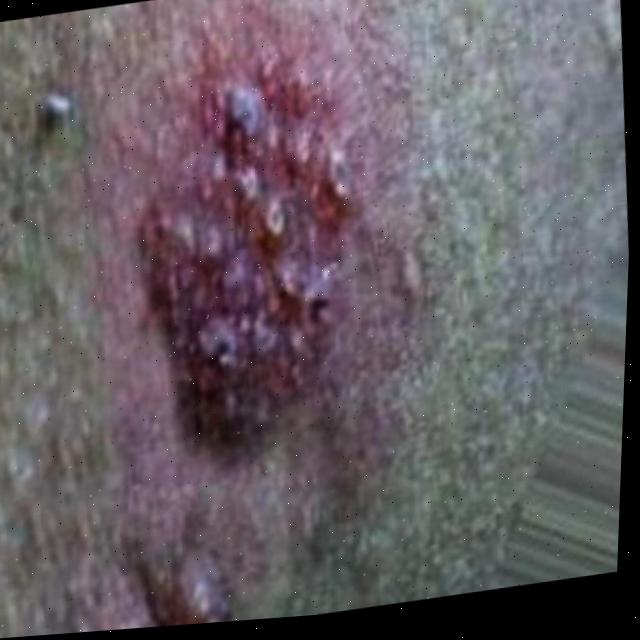Shingles: (122, 44, 375, 466)
